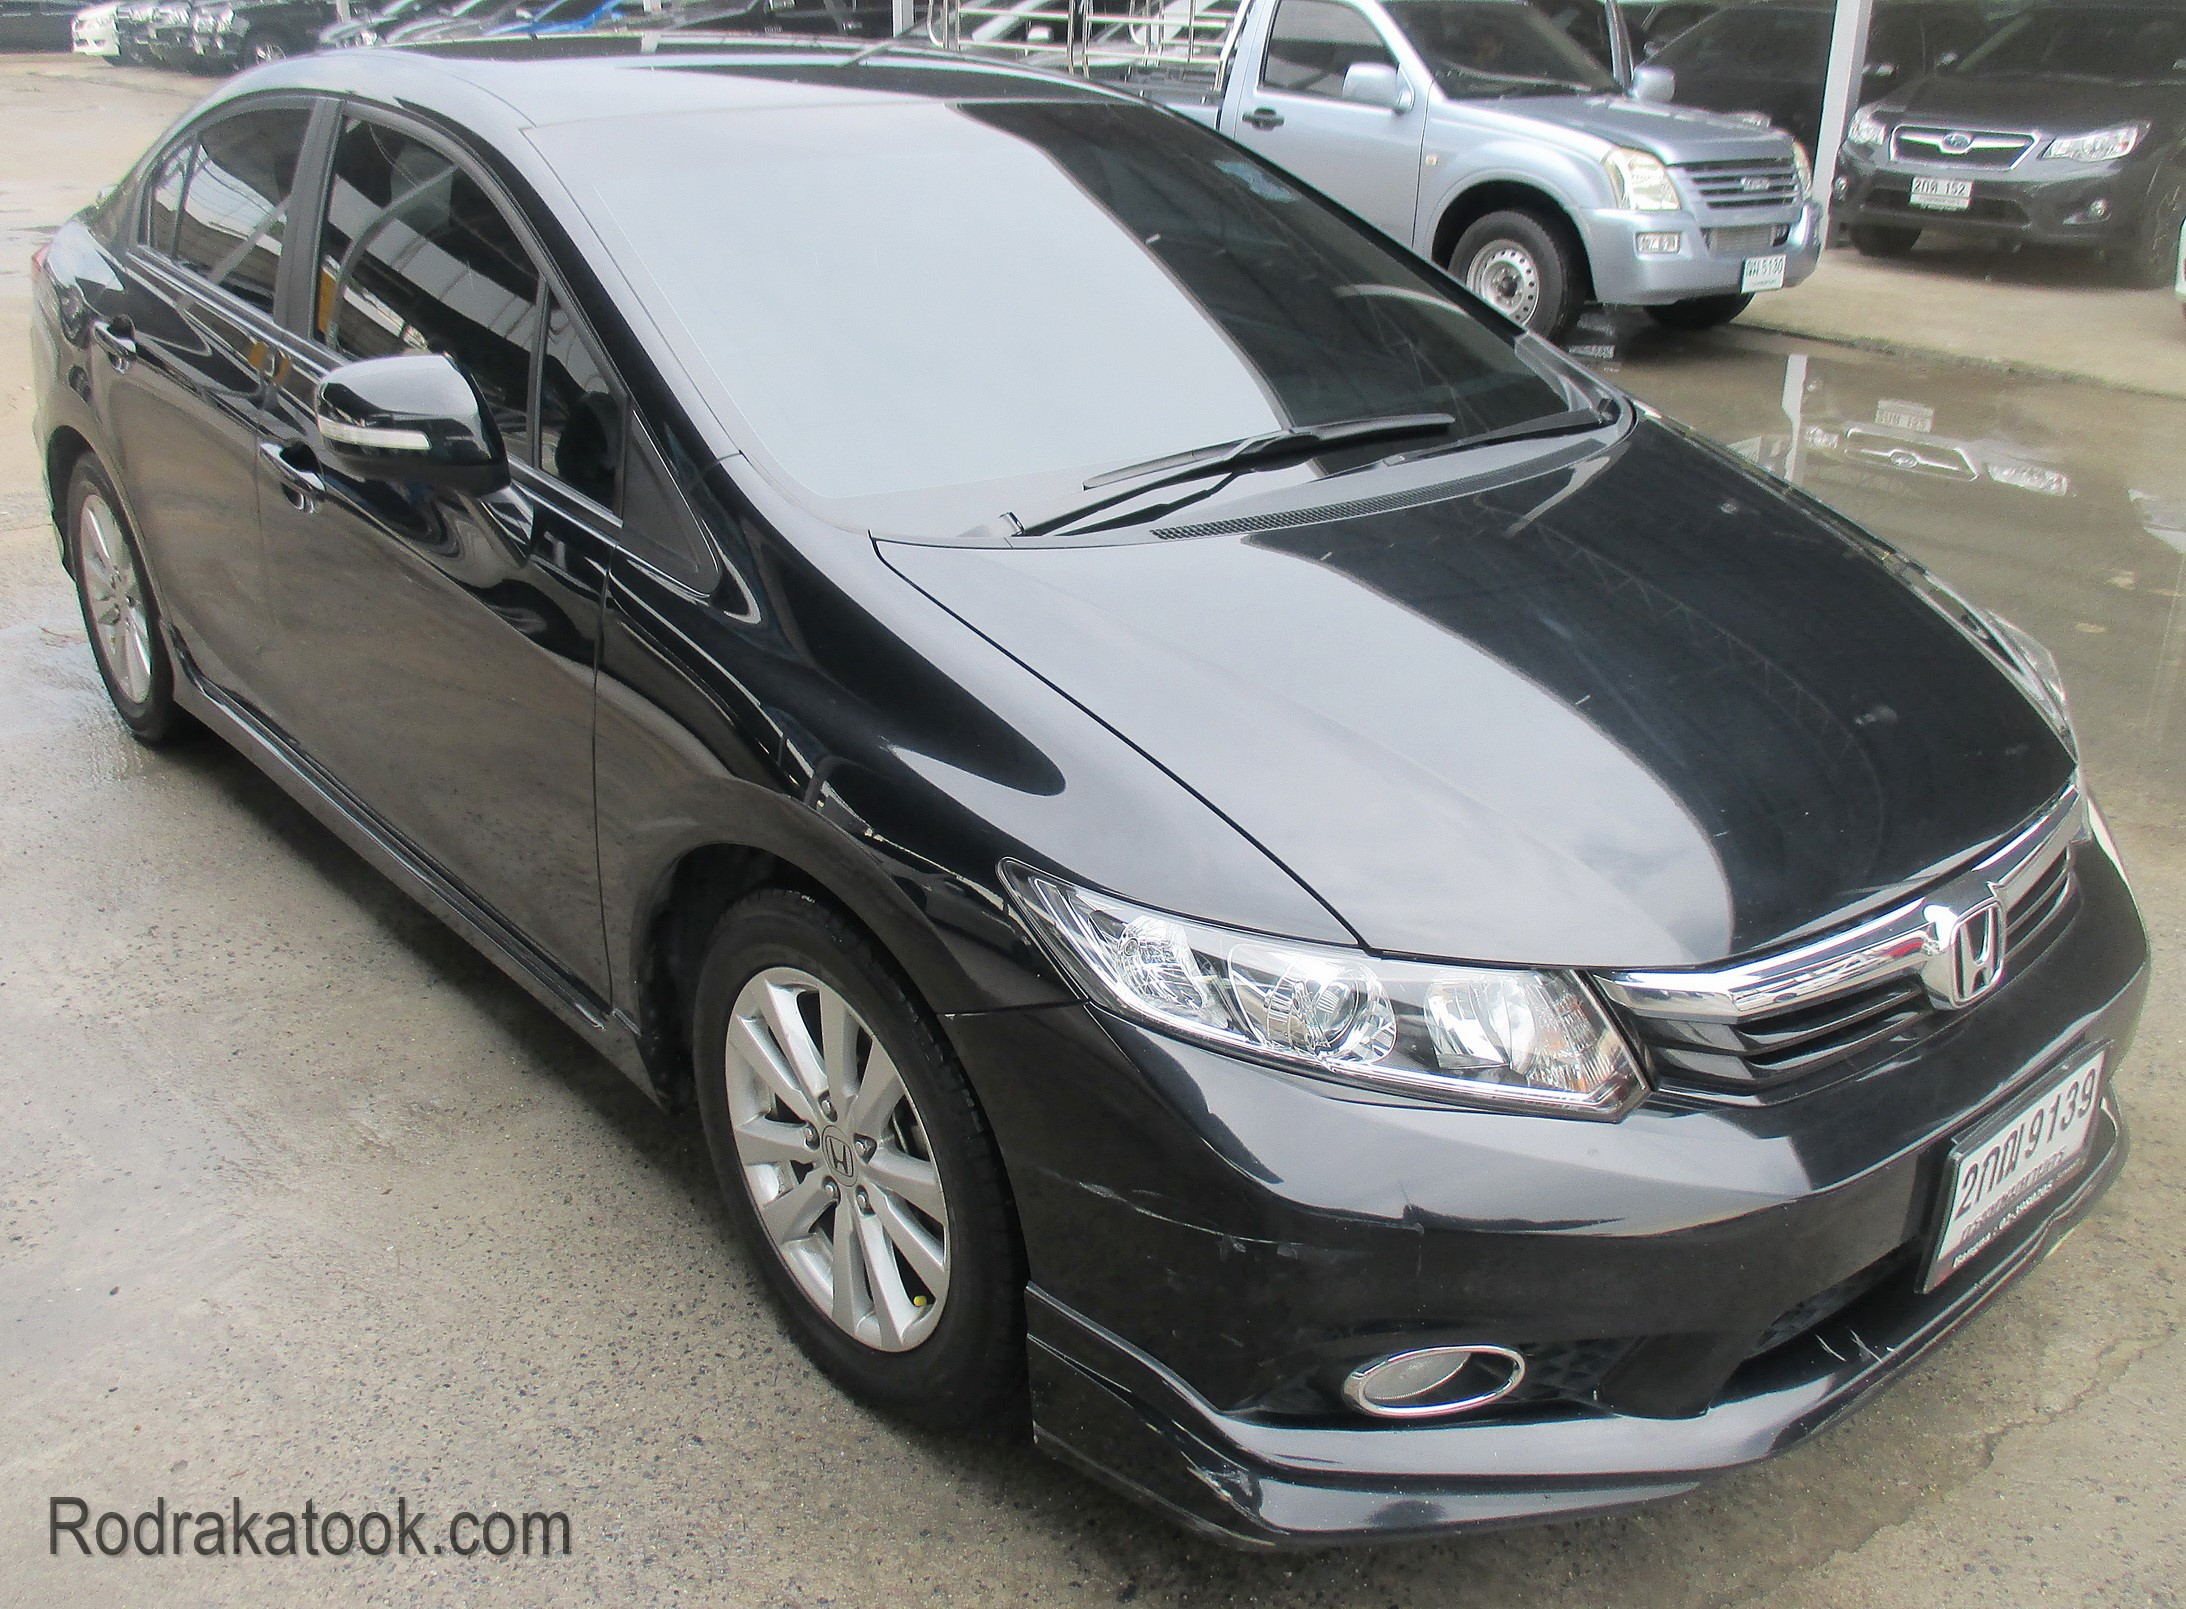sedan: (31, 36, 2159, 1470)
